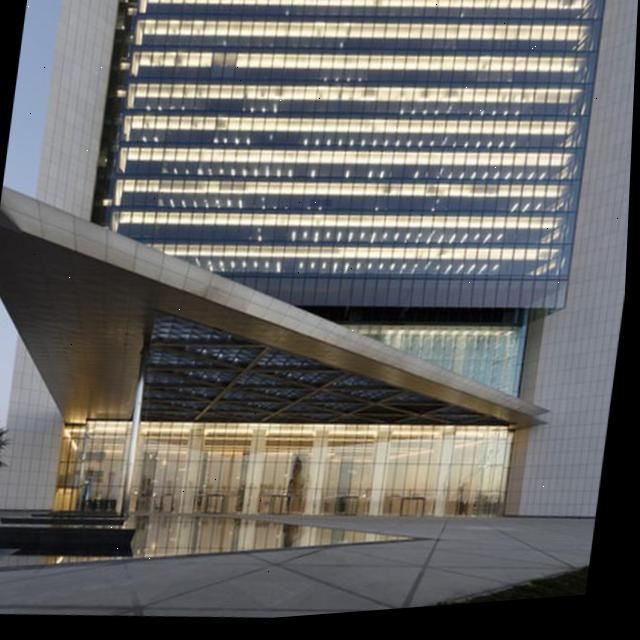building: (0, 0, 640, 567)
